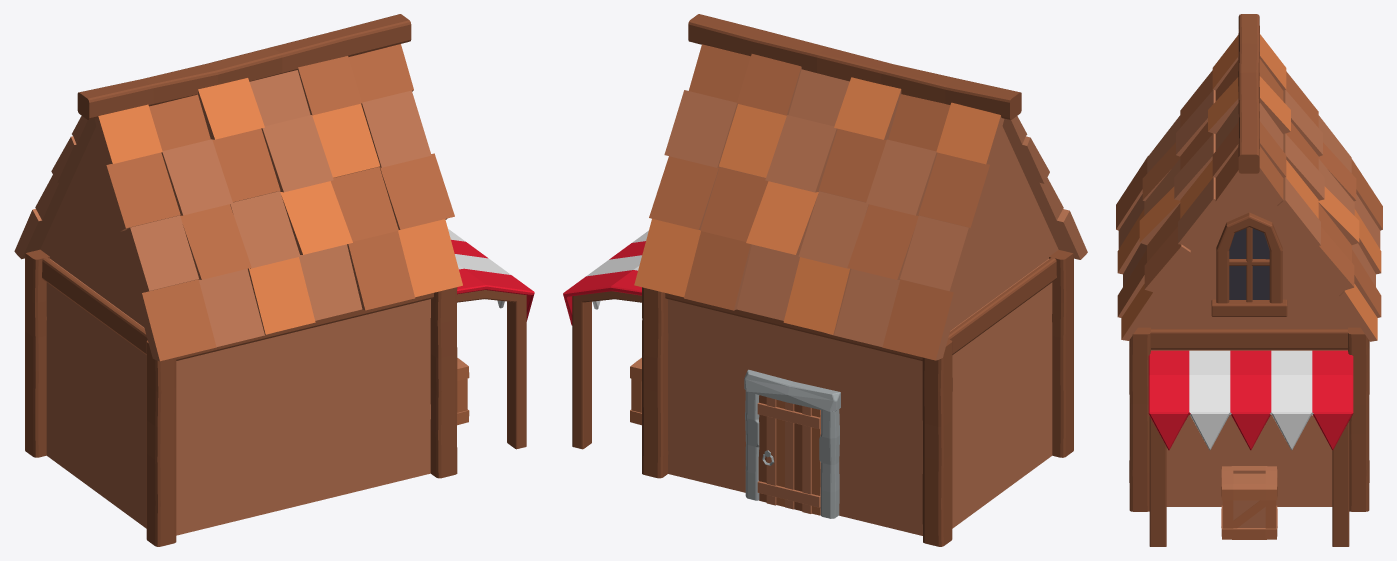
The model's file is house.fbx.
3 views of the same model, side by side, from view 1: azimuth 30°, elevation 25°; view 2: azimuth 150°, elevation 25°; view 3: azimuth 270°, elevation 25° (orthographic). The views are drawn at different scales.
Visible parts, largest first — view 1: Cube.018, Cube.012, Cube.013, Cube.017, Plane, Cube.026; view 2: Cube.018, Cube.012, Cube.013, Cube.016, Cube.015, Cube.017, Plane, Cube.026; view 3: Cube.018, Plane, Cube.013, Cube.012, Cube.023, Cube.026, Cube.017.
Part boxes in pixels (x1=…): Cube.018: x1=14, y1=14, x2=462, y2=361; Cube.012: x1=46, y1=258, x2=430, y2=535; Cube.013: x1=25, y1=249, x2=457, y2=546; Cube.017: x1=457, y1=290, x2=526, y2=449; Plane: x1=448, y1=229, x2=534, y2=321; Cube.026: x1=457, y1=358, x2=469, y2=425; Cube.018: x1=634, y1=14, x2=1087, y2=360; Cube.012: x1=667, y1=259, x2=1052, y2=535; Cube.013: x1=642, y1=250, x2=1073, y2=546; Cube.016: x1=757, y1=395, x2=820, y2=515; Cube.015: x1=744, y1=369, x2=840, y2=518; Cube.017: x1=572, y1=291, x2=641, y2=449; Plane: x1=563, y1=230, x2=648, y2=325; Cube.026: x1=630, y1=357, x2=641, y2=425; Cube.018: x1=1116, y1=14, x2=1382, y2=341; Plane: x1=1148, y1=350, x2=1353, y2=450; Cube.013: x1=1129, y1=327, x2=1369, y2=511; Cube.012: x1=1151, y1=349, x2=1347, y2=506; Cube.023: x1=1211, y1=212, x2=1287, y2=316; Cube.026: x1=1221, y1=466, x2=1277, y2=539; Cube.017: x1=1149, y1=416, x2=1349, y2=546.
Size of the model in its own units: 772 by 752 by 500.
Materials: 2 (1 with a texture image).
